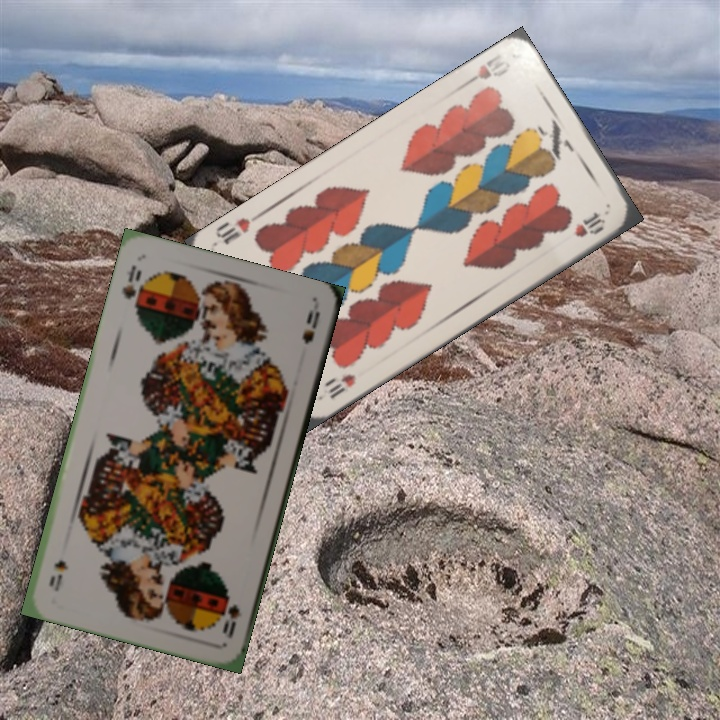H10: (458, 50, 513, 91), (325, 369, 359, 402)
SO: (218, 592, 244, 641), (118, 261, 144, 310)
